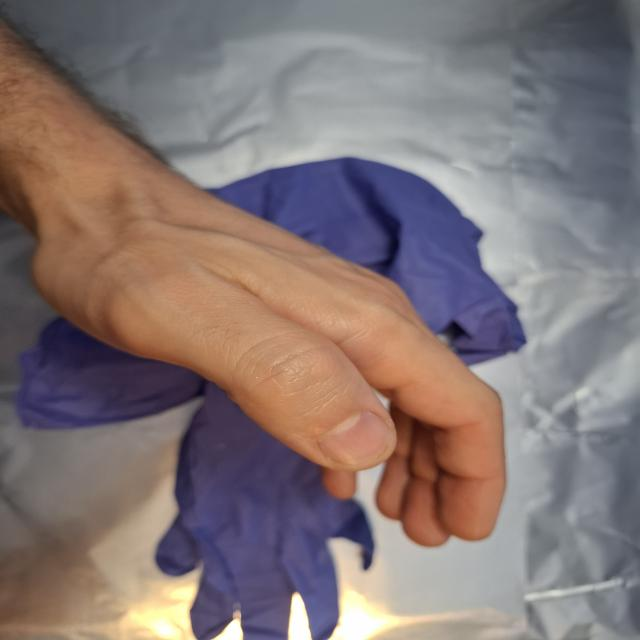glove_off: (27, 169, 510, 549)
